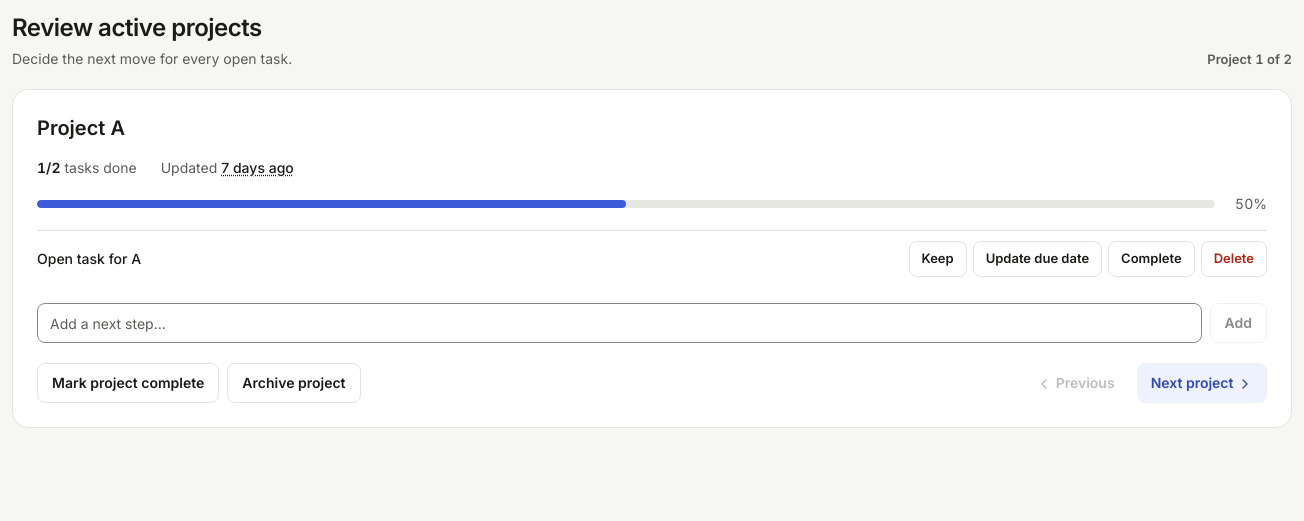
Test: ProjectsStep — display/action consistency › Next project → shows Project B
Click the button "Next project" at (1202, 383), box [1137, 363, 1267, 403]
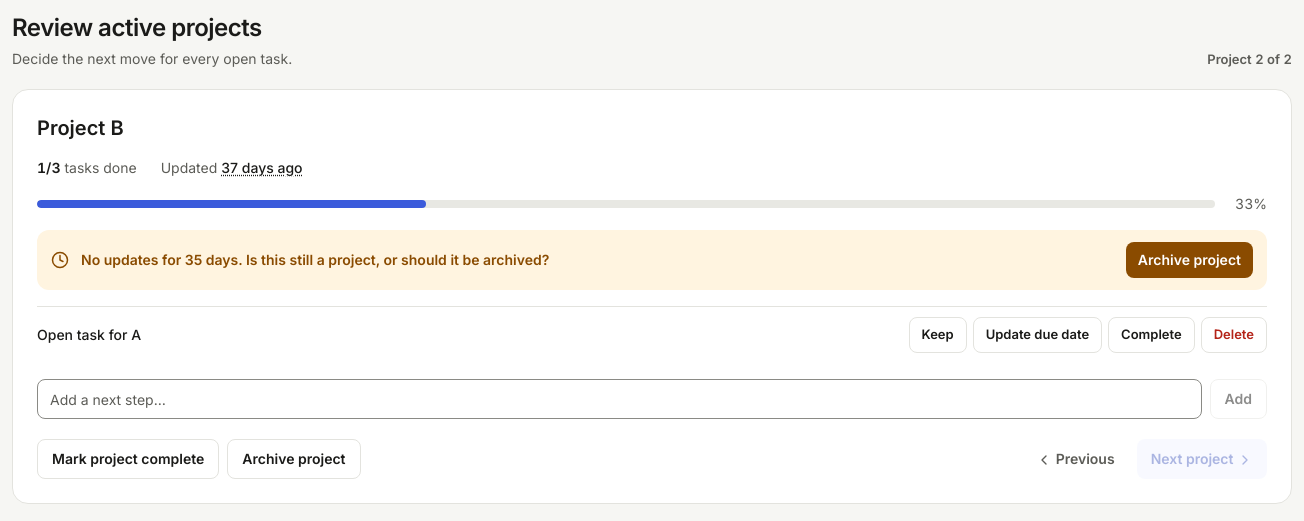
Check: the heading "Project B" is shown, box [37, 116, 124, 140]
